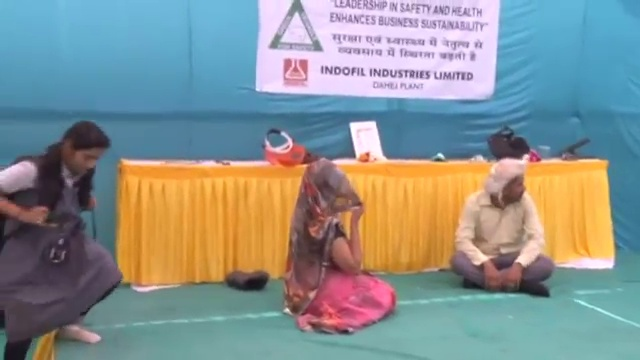helmet_off: (295, 161, 360, 215), (57, 121, 108, 179), (490, 161, 528, 205)
person: (1, 118, 125, 358), (285, 159, 400, 337), (448, 155, 561, 298)
